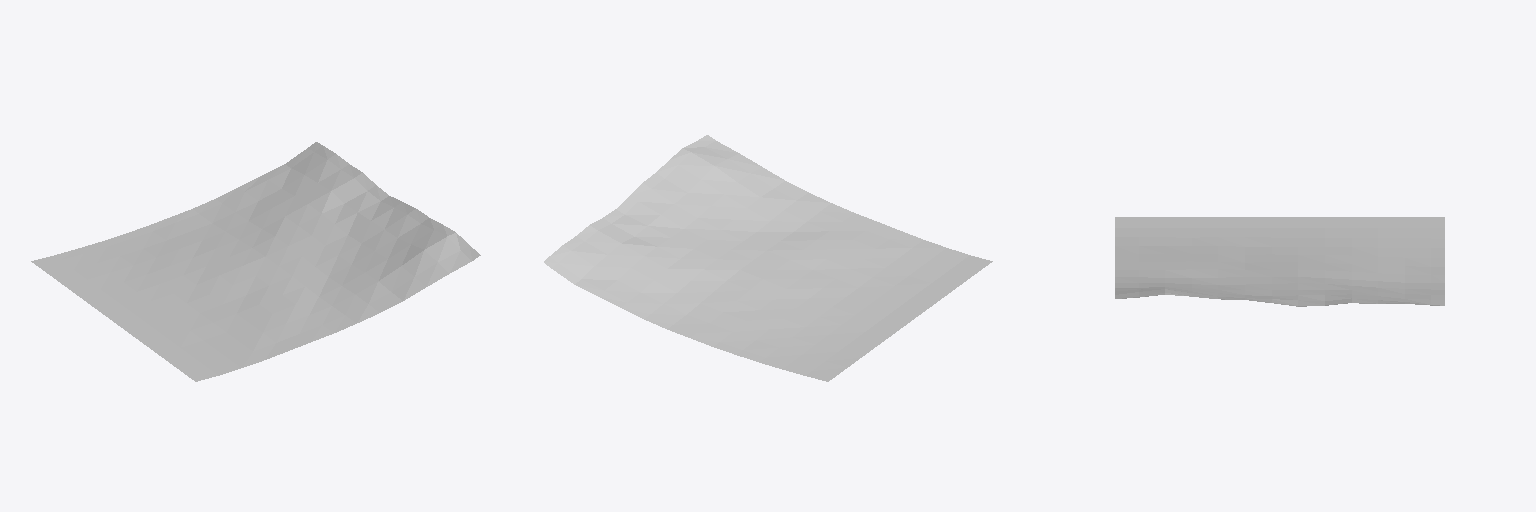
File: Landscape.005.obj
The picture shows the model from 3 angles: view 1: azimuth 30°, elevation 25°; view 2: azimuth 150°, elevation 25°; view 3: azimuth 270°, elevation 25°; orthographic projection.
Parts seen in each view (by area): view 1: Landscape.005; view 2: Landscape.005; view 3: Landscape.005.
Part boxes in pixels (bbox=[...]): Landscape.005: bbox=[31, 142, 480, 381]; Landscape.005: bbox=[544, 135, 992, 381]; Landscape.005: bbox=[1115, 217, 1444, 306].
Size of the model in its own units: 32 by 6.62 by 32.